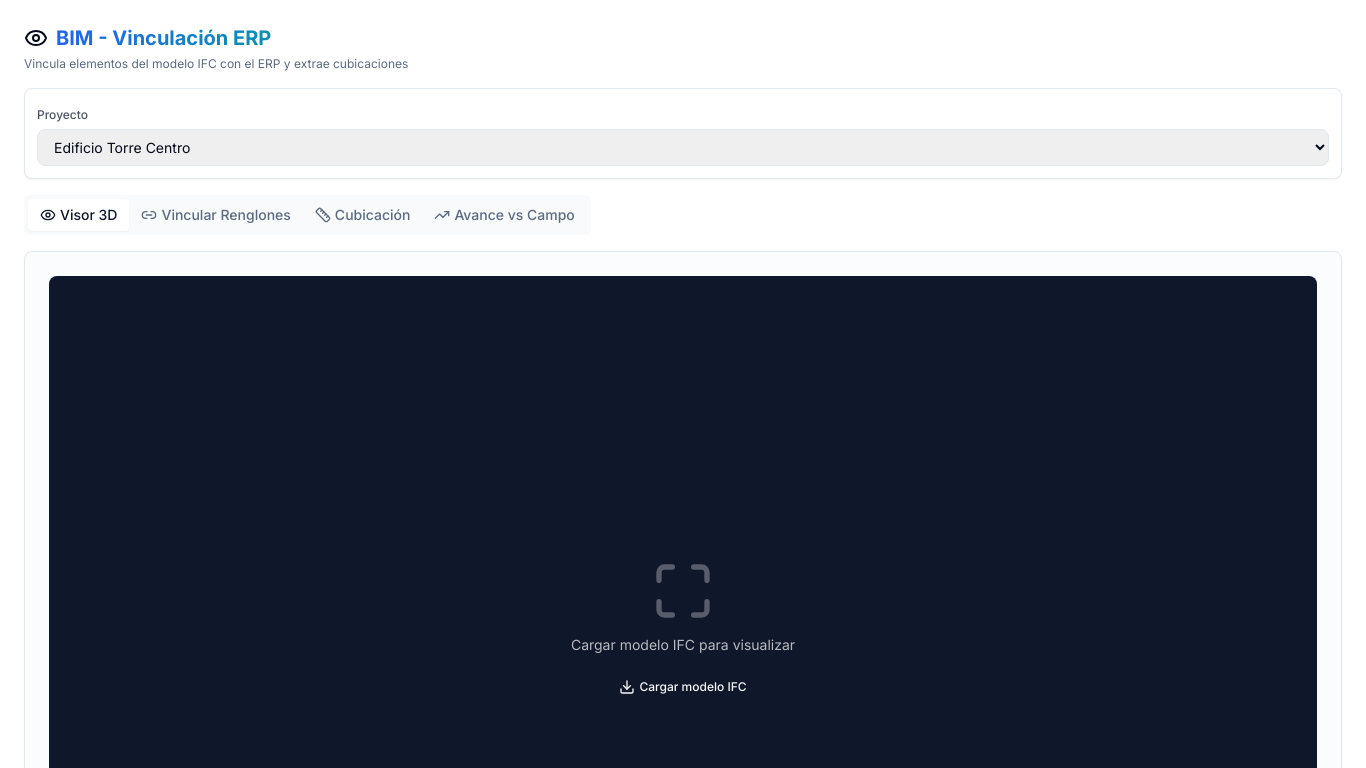
Test case: VisorBIM Screen › vincular tab shows IFC elements list
This screenshot has width=1366, height=768.
Check: the tab "Visor 3D" is shown, box [28,199,130,231]
Click the tab "Vincular Renglones": (216, 215) [130,199,303,231]
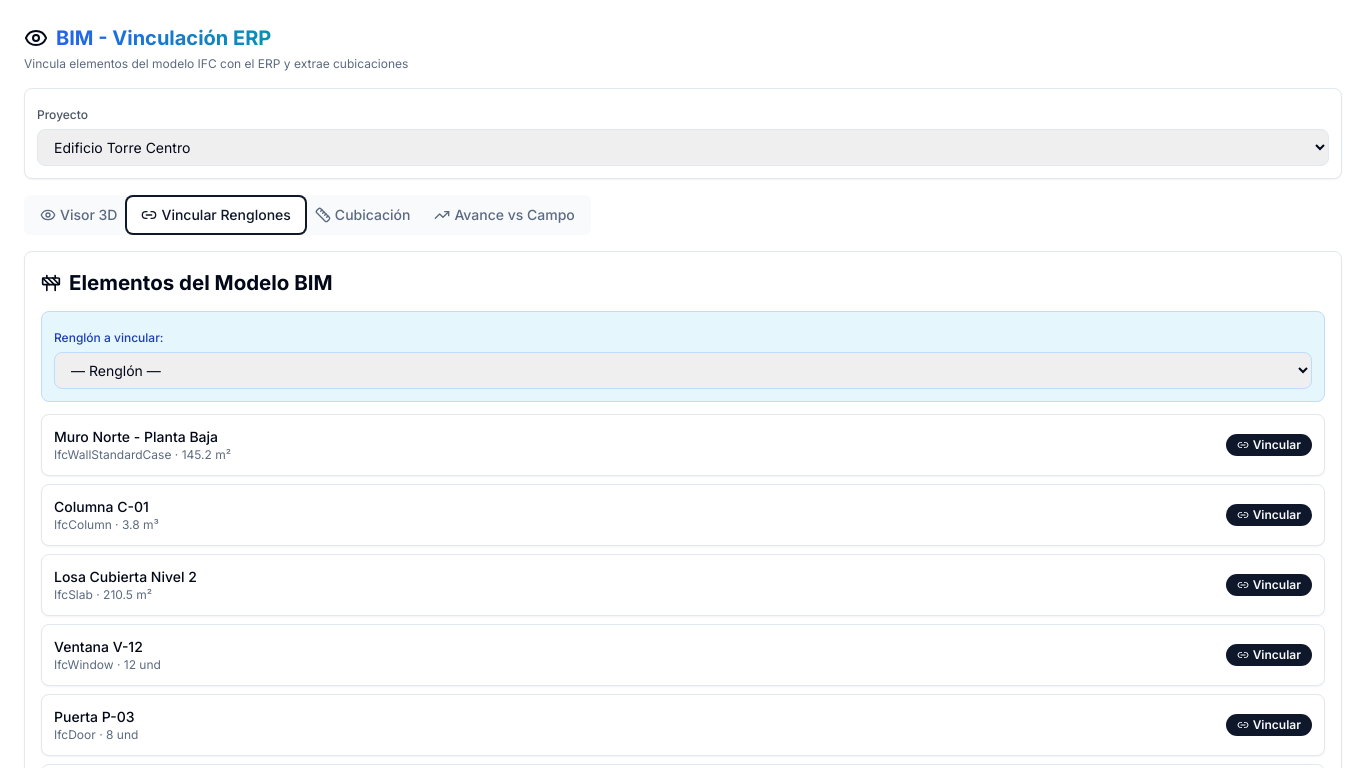
Check: the text "Muro Norte - Planta Baja" is shown, box [54,427,231,447]
Check: the text "Columna C-01" is shown, box [54,497,159,517]
Check: the text "Losa Cubierta Nivel 2" is shown, box [54,567,197,587]
